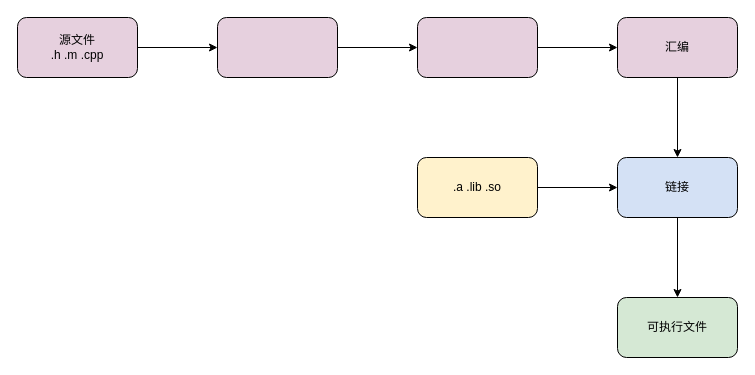
Image size: 755x375. Some labels were removed from this diagram. Each missing label, with the centre of its shape:
编译: pixel 477 47
预编译: pixel 277 47
